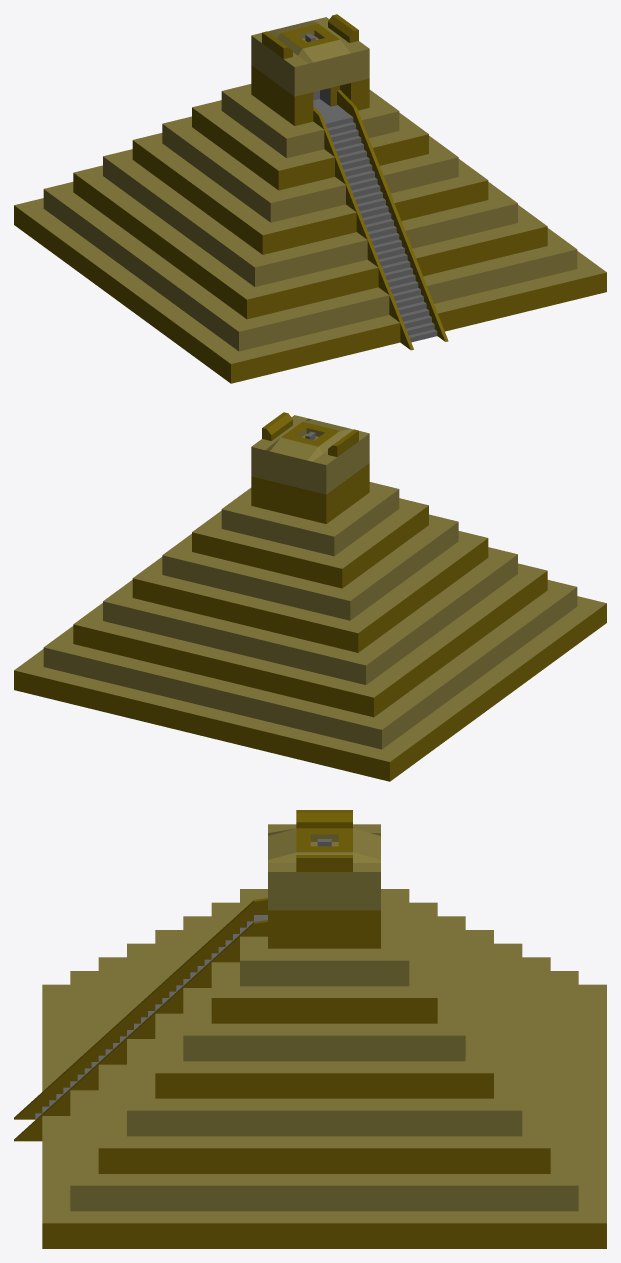
The model's file is Mayan Pyramid.fbx.
3 views of the same model, one above another, from view 1: azimuth 30°, elevation 25°; view 2: azimuth 150°, elevation 25°; view 3: azimuth 270°, elevation 25° (orthographic). The views are drawn at different scales.
Visible parts, largest first — view 1: Pyramid; view 2: Pyramid; view 3: Pyramid.
Boxes of the visible parts, x1,y1,x2,y2 form: Pyramid: (14, 14, 606, 383); Pyramid: (14, 412, 606, 781); Pyramid: (14, 810, 606, 1248).
Bounding box in the file's own units: 2000 × 1155 × 2100.
